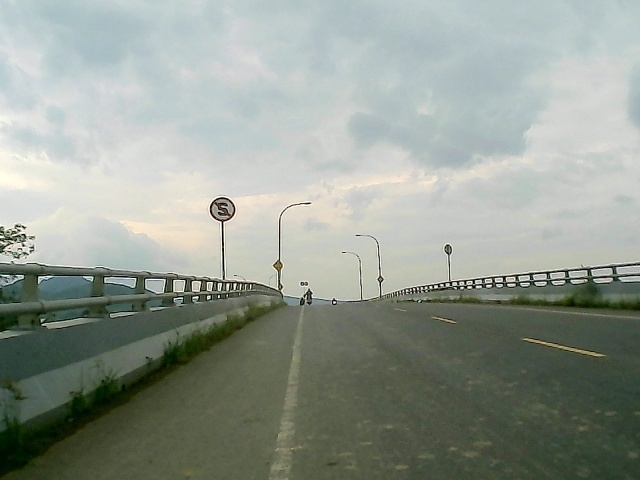Dilarang berhenti: (209, 197, 236, 223)
